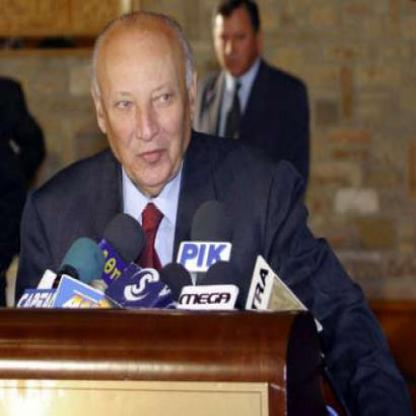face: (101, 19, 193, 190), (215, 3, 257, 76)
